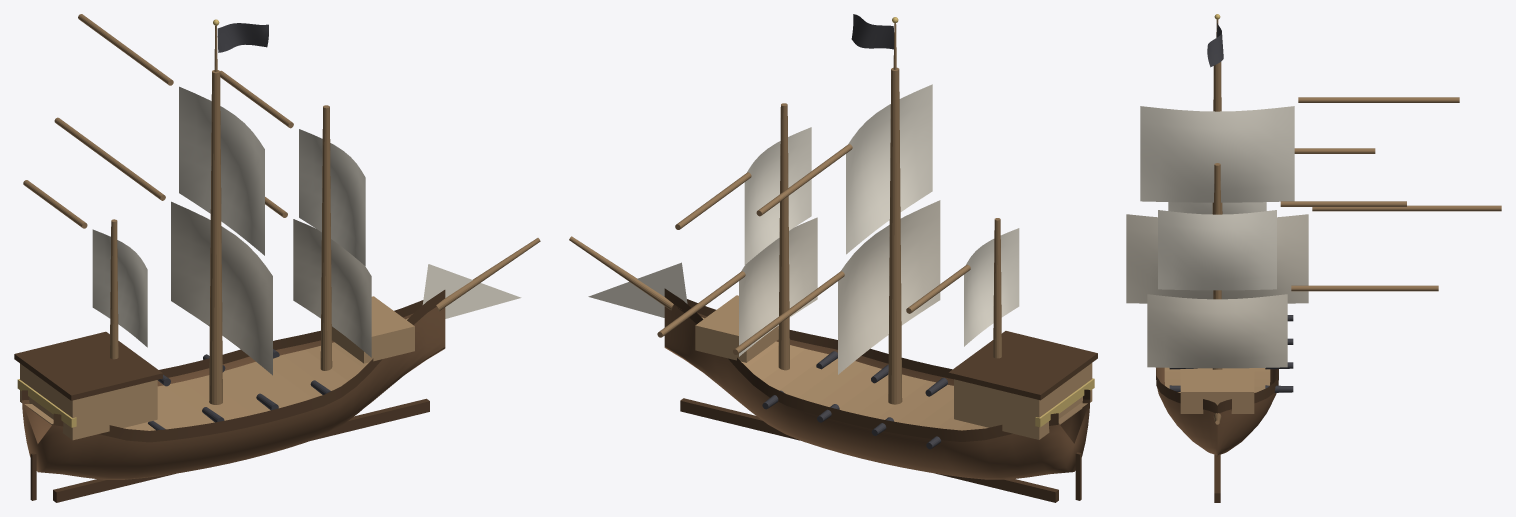
File: pirate-ship.glb
3 renders of one model, left to right at view 1: azimuth 30°, elevation 25°; view 2: azimuth 150°, elevation 25°; view 3: azimuth 270°, elevation 25°, orthographic. The views are drawn at different scales.
Parts seen in each view (by area): view 1: Hull, SailMain2, Deck, SailMain1, SailFore2, CabinRoof, SailFore1, Cabin, SailMiz, MastMain, Bulwark_starboard, MastFore (+11 smaller); view 2: Hull, SailMain2, Deck, SailMain1, CabinRoof, SailFore2, SailFore1, Cabin, SailMiz, MastMain, Bulwark_port, Keel (+12 smaller); view 3: SailMain1, SailFore2, SailFore1, SailMain2, Hull, Forecastle, YardMain2, SailMiz, YardFore2, YardMain1, Deck, YardFore1 (+6 smaller).
Boxes of the visible parts, <box> form: Hull: <box>22,307,445,479</box>; SailMain2: <box>171,201,272,375</box>; Deck: <box>24,318,408,430</box>; SailMain1: <box>179,86,264,255</box>; SailFore2: <box>293,219,371,357</box>; CabinRoof: <box>14,331,162,400</box>; SailFore1: <box>299,129,365,265</box>; Cabin: <box>20,363,157,440</box>; SailMiz: <box>92,229,147,347</box>; MastMain: <box>209,70,222,404</box>; Bulwark_starboard: <box>53,290,445,442</box>; MastFore: <box>320,105,332,370</box>; Hull: <box>664,304,1090,479</box>; SailMain2: <box>838,200,940,374</box>; Deck: <box>701,317,1087,430</box>; SailMain1: <box>846,84,932,254</box>; CabinRoof: <box>948,331,1097,400</box>; SailFore2: <box>739,217,817,356</box>; SailFore1: <box>744,127,811,264</box>; Cabin: <box>954,363,1092,439</box>; SailMiz: <box>964,228,1019,346</box>; MastMain: <box>888,67,902,404</box>; Bulwark_port: <box>664,288,1058,441</box>; Keel: <box>680,398,1058,502</box>; SailMain1: <box>1140,106,1294,202</box>; SailFore2: <box>1147,294,1287,368</box>; SailFore1: <box>1158,210,1276,290</box>; SailMain2: <box>1126,214,1308,303</box>; Hull: <box>1156,367,1278,456</box>; Forecastle: <box>1180,369,1254,413</box>; YardMain2: <box>1312,205,1501,211</box>; SailMiz: <box>1168,202,1266,214</box>; YardFore2: <box>1291,285,1438,291</box>; YardMain1: <box>1298,97,1459,102</box>; Deck: <box>1164,367,1270,392</box>; YardFore1: <box>1280,201,1406,206</box>.
Bounding box in the file's own units: 29.95 × 24.91 × 21.4.
